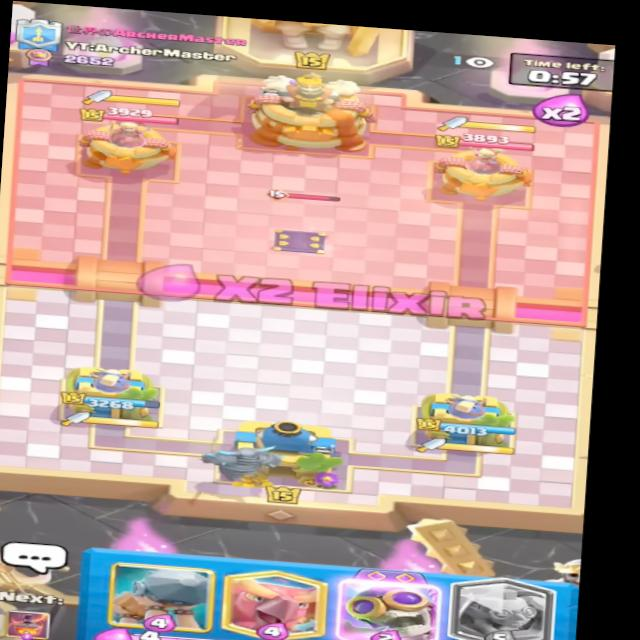evo-tesla-closed: (249, 185, 349, 258)
